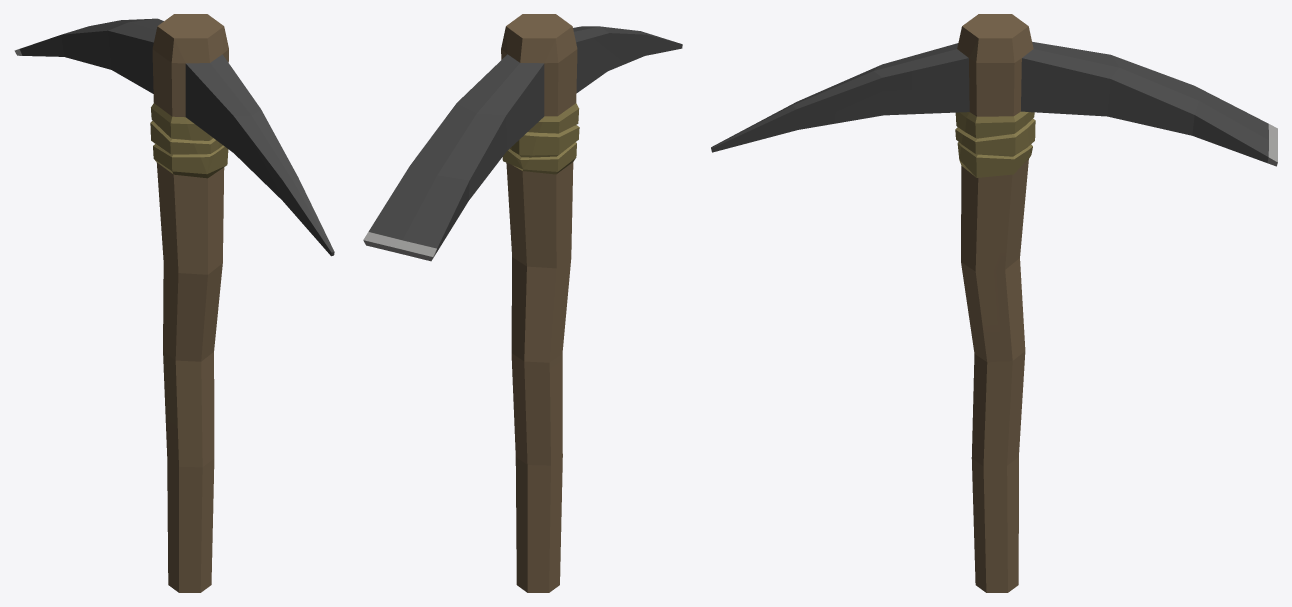
The model's file is Pickaxe.fbx.
3 renders of one model, left to right at view 1: azimuth 30°, elevation 25°; view 2: azimuth 150°, elevation 25°; view 3: azimuth 270°, elevation 25°, orthographic.
Parts seen in each view (by area): view 1: Primitive _Pickaxe; view 2: Primitive _Pickaxe; view 3: Primitive _Pickaxe.
Boxes of the visible parts, <box> form: Primitive _Pickaxe: <box>14,14,334,592</box>; Primitive _Pickaxe: <box>363,14,682,592</box>; Primitive _Pickaxe: <box>711,14,1277,592</box>.
Size of the model in its own units: 0.3988 by 3.04 by 2.8.
